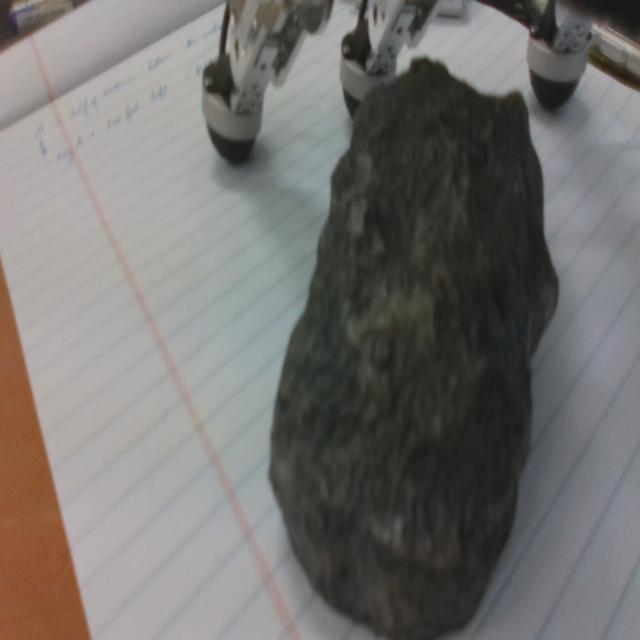stone: (267, 57, 559, 640)
